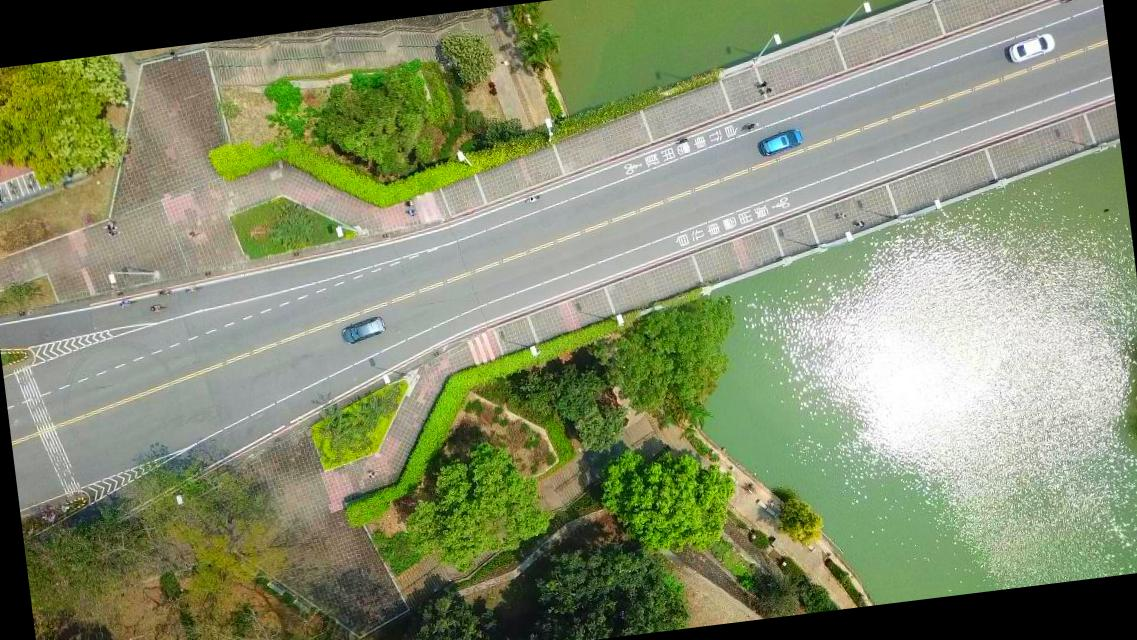vehicle: (1005, 32, 1056, 64), (339, 314, 386, 346), (756, 126, 803, 158)
